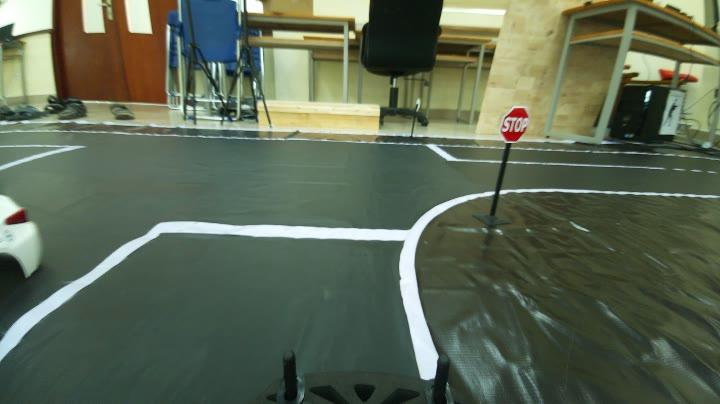car: (3, 190, 48, 286)
stop: (493, 100, 539, 148)
